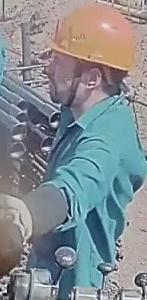gloves: (0, 191, 33, 276)
helmet: (43, 2, 137, 72)
vest: (25, 93, 145, 299)
